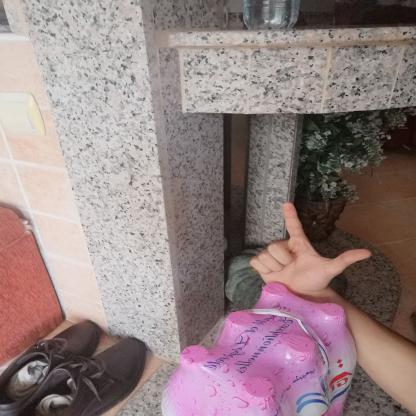LAAM: (242, 196, 381, 304)
